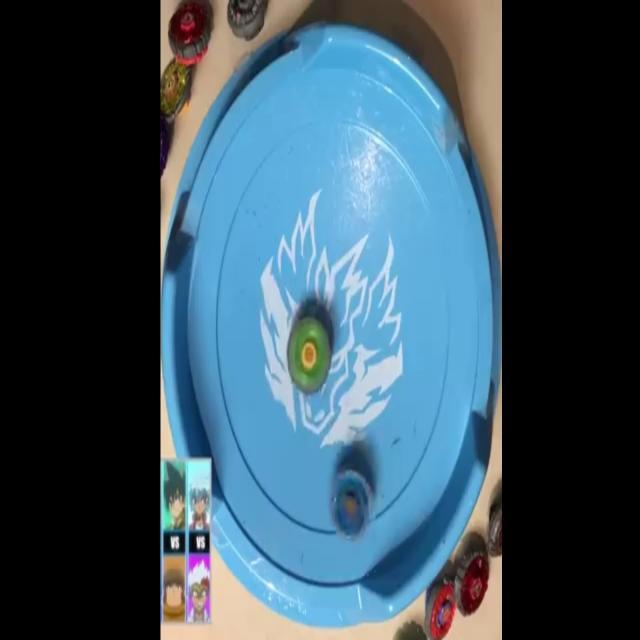Beyblade: (328, 468, 376, 544), (288, 318, 334, 393), (168, 1, 212, 66), (454, 544, 490, 616), (160, 57, 194, 126), (422, 580, 456, 640)
